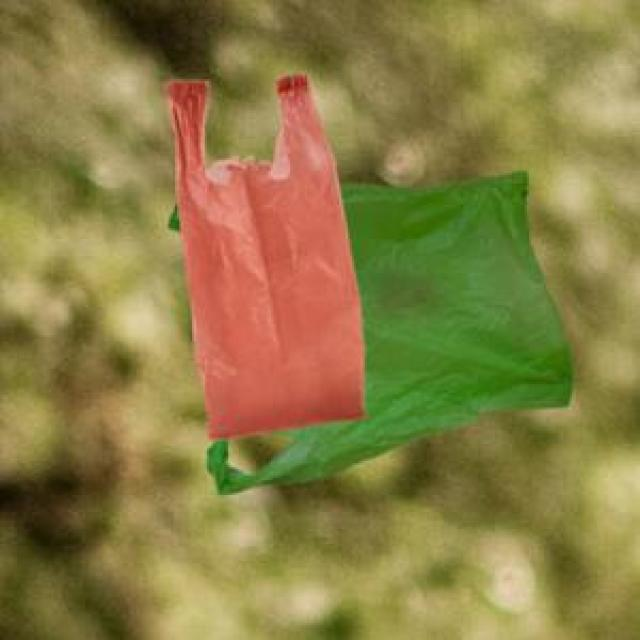plastic: (117, 56, 620, 549)
